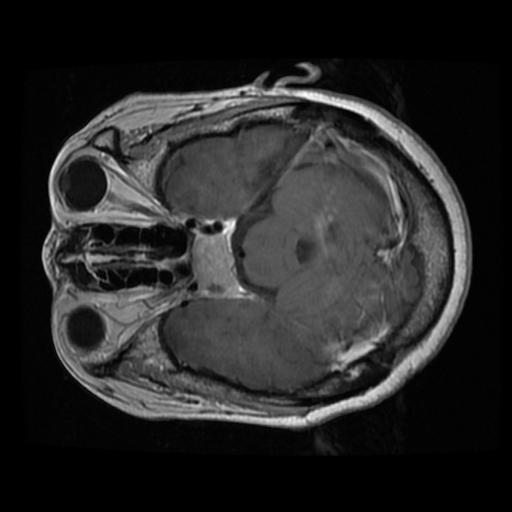pituitary tumour: (193, 231, 235, 289)
